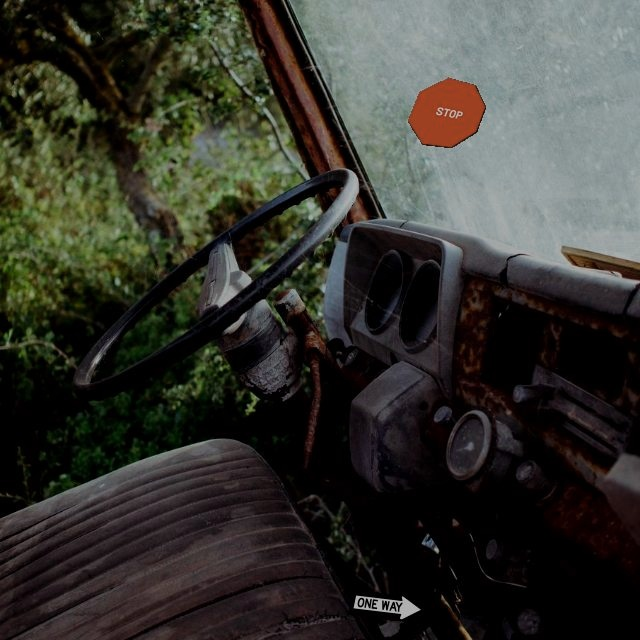ONE_WAY_ right: (347, 589, 426, 624)
STOP: (407, 77, 486, 148)
